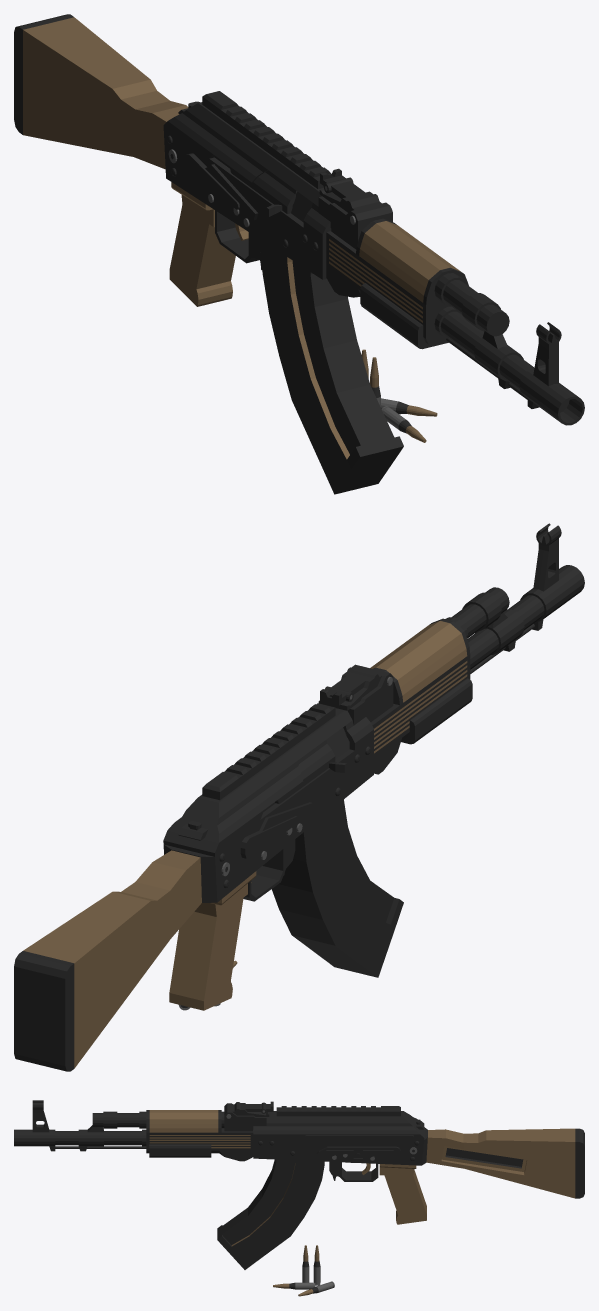
3 renders of one model, top to bottom at view 1: azimuth 30°, elevation 25°; view 2: azimuth 150°, elevation 25°; view 3: azimuth 270°, elevation 25°, orthographic. The views are drawn at different scales.
Visible parts, largest first — view 1: AK_Mag1, AK_Receiver, AK_Barrel1, AK_Stock1, AK_RearGrip1, AK_Receiver_Rail, Barrel1_Guard, AK_Receiver_Ejection; view 2: AK_Stock1, AK_Receiver, AK_Barrel1, AK_Mag1, AK_RearGrip1, AK_Receiver_Rail, Barrel1_Guard, AK_Receiver_Ejection; view 3: AK_Receiver, AK_Stock1, AK_Barrel1, AK_Mag1, AK_RearGrip1, AK_Receiver_Rail, Barrel1_Guard.
Boxes of the visible parts, x1,y1,x2,y2 form: AK_Mag1: (260, 239, 403, 494); AK_Receiver: (163, 101, 392, 279); AK_Barrel1: (326, 218, 584, 425); AK_Stock1: (14, 14, 188, 169); AK_RearGrip1: (169, 182, 235, 306); AK_Receiver_Rail: (202, 91, 331, 188); Barrel1_Guard: (360, 283, 448, 349); AK_Receiver_Ejection: (230, 167, 297, 216); AK_Stock1: (14, 850, 201, 1071); AK_Receiver: (163, 664, 393, 902); AK_Barrel1: (370, 523, 584, 774); AK_Mag1: (271, 799, 403, 977); AK_RearGrip1: (169, 871, 256, 1010); AK_Receiver_Rail: (202, 703, 335, 800); Barrel1_Guard: (401, 678, 472, 744); AK_Receiver_Ejection: (275, 740, 346, 803); AK_Receiver: (224, 1101, 427, 1181); AK_Stock1: (426, 1128, 584, 1198); AK_Barrel1: (14, 1100, 253, 1161); AK_Mag1: (217, 1159, 324, 1269); AK_RearGrip1: (379, 1164, 426, 1224); AK_Receiver_Rail: (276, 1106, 400, 1116); Barrel1_Guard: (149, 1144, 211, 1157).
Size of the model in its own units: 0.2079 by 0.3532 by 1.12.
